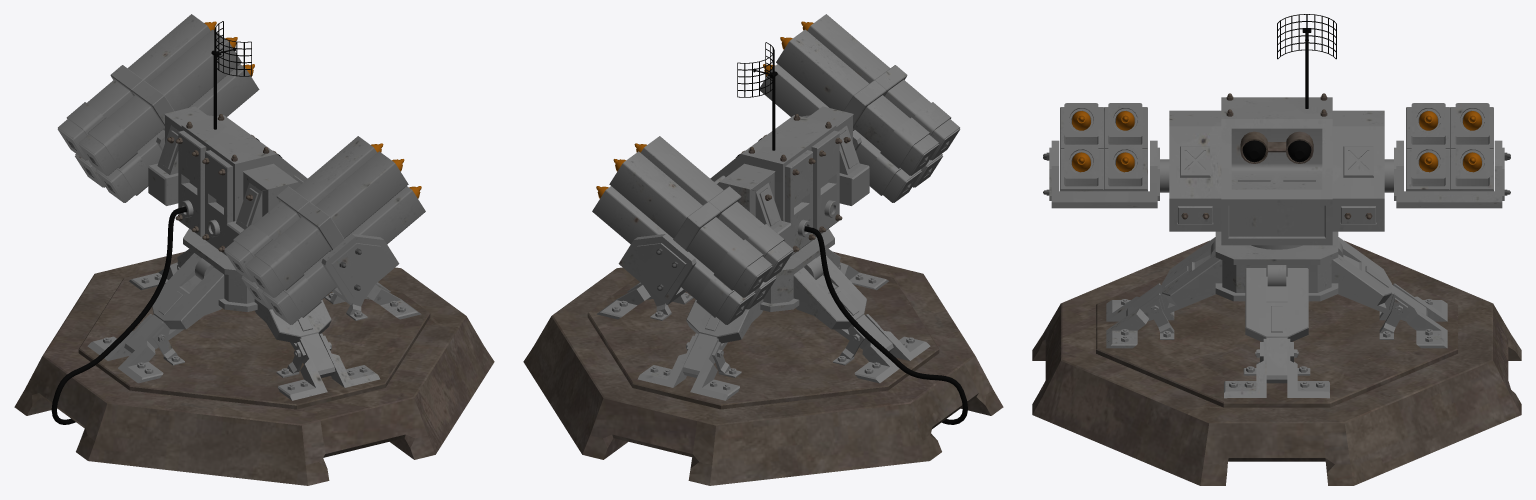
File: MissileTurret.fbx
The picture shows the model from 3 angles, left to right: view 1: azimuth 30°, elevation 25°; view 2: azimuth 150°, elevation 25°; view 3: azimuth 270°, elevation 25°; orthographic projection. The views are drawn at different scales.
Parts seen in each view (by area): view 1: Cube.004_15, Cube.001_3, Cube.003_12, Cube_11, Cube.002_6, Plane_14, BezierCurve.001_17, Cylinder.004_9, Cylinder.008_10; view 2: Cube.004_15, Cube.001_3, Cube.003_12, Cube_11, Cube.002_6, Plane_14, BezierCurve.001_17, Cylinder.004_9, Cylinder.008_10; view 3: Cube.004_15, Cube_11, Cube.003_12, Cube.001_3, Cube.002_6, Plane_14, Cylinder.001_2, Cylinder.002_7, Cylinder.004_9, Cylinder_4.
Boxes of the visible parts, x1=… form: Cube.004_15: x1=14, y1=251, x2=494, y2=485; Cube.001_3: x1=57, y1=14, x2=425, y2=324; Cube.003_12: x1=87, y1=249, x2=421, y2=400; Cube_11: x1=148, y1=106, x2=307, y2=256; Cube.002_6: x1=156, y1=115, x2=399, y2=304; Plane_14: x1=183, y1=228, x2=257, y2=311; BezierCurve.001_17: x1=51, y1=206, x2=187, y2=424; Cylinder.004_9: x1=211, y1=21, x2=251, y2=129; Cylinder.008_10: x1=167, y1=114, x2=269, y2=252; Cube.004_15: x1=523, y1=251, x2=1003, y2=485; Cube.001_3: x1=592, y1=14, x2=960, y2=324; Cube.003_12: x1=596, y1=249, x2=930, y2=400; Cube_11: x1=710, y1=106, x2=869, y2=256; Cube.002_6: x1=618, y1=115, x2=861, y2=304; Plane_14: x1=760, y1=228, x2=834, y2=311; BezierCurve.001_17: x1=804, y1=226, x2=967, y2=424; Cylinder.004_9: x1=737, y1=42, x2=777, y2=150; Cylinder.008_10: x1=748, y1=114, x2=850, y2=252; Cube.004_15: x1=1032, y1=240, x2=1521, y2=485; Cube_11: x1=1169, y1=97, x2=1384, y2=245; Cube.003_12: x1=1106, y1=237, x2=1447, y2=398; Cube.001_3: x1=1060, y1=103, x2=1493, y2=191; Cube.002_6: x1=1049, y1=140, x2=1504, y2=208; Plane_14: x1=1215, y1=231, x2=1338, y2=301; Cylinder.001_2: x1=1072, y1=111, x2=1481, y2=172; Cylinder.002_7: x1=1240, y1=131, x2=1313, y2=163; Cylinder.004_9: x1=1277, y1=14, x2=1336, y2=108; Cylinder_4: x1=1160, y1=159, x2=1393, y2=192.
Size of the model in its own units: 881 by 710 by 881.
7 materials, 3 textured.
